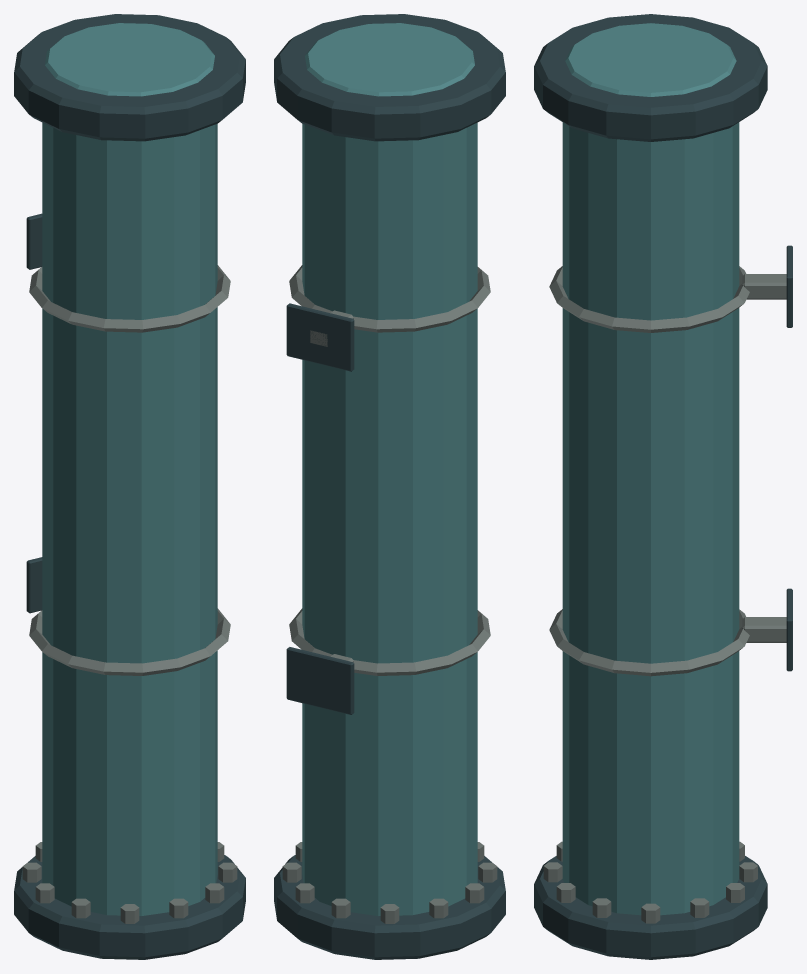
The model's file is pipe-riser.glb.
3 renders of one model, left to right at view 1: azimuth 30°, elevation 25°; view 2: azimuth 150°, elevation 25°; view 3: azimuth 270°, elevation 25°, orthographic.
Parts seen in each view (by area): view 1: pipe-riser__pipe-riser__petrol, pipe-riser__pipe-riser__steel, pipe-riser__pipe-riser__hardware; view 2: pipe-riser__pipe-riser__petrol, pipe-riser__pipe-riser__steel, pipe-riser__pipe-riser__hardware; view 3: pipe-riser__pipe-riser__petrol, pipe-riser__pipe-riser__steel, pipe-riser__pipe-riser__hardware.
Part boxes in pixels (<box>): pipe-riser__pipe-riser__petrol: <box>42,23,217,915</box>; pipe-riser__pipe-riser__steel: <box>14,14,245,959</box>; pipe-riser__pipe-riser__hardware: <box>22,265,237,923</box>; pipe-riser__pipe-riser__petrol: <box>302,23,477,915</box>; pipe-riser__pipe-riser__steel: <box>274,14,505,959</box>; pipe-riser__pipe-riser__hardware: <box>282,265,497,923</box>; pipe-riser__pipe-riser__petrol: <box>562,23,739,915</box>; pipe-riser__pipe-riser__steel: <box>534,14,792,959</box>; pipe-riser__pipe-riser__hardware: <box>543,266,786,923</box>.
Size of the model in its own units: 0.74 by 3 by 0.82.
